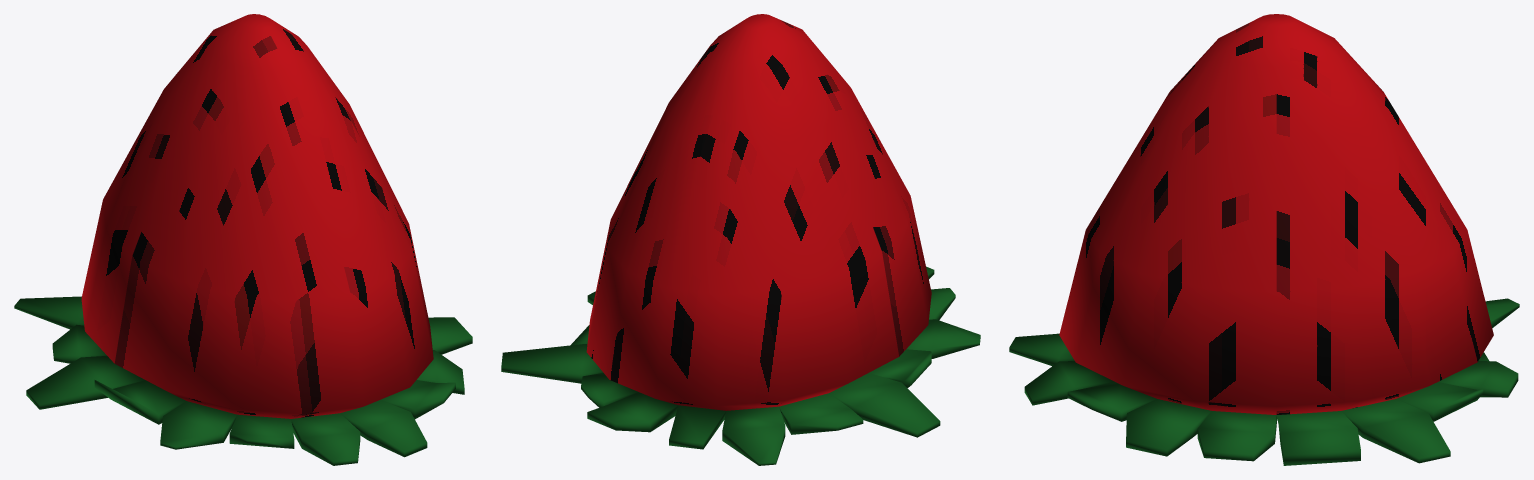
Rendered from strawb.glb.
The picture shows the model from 3 angles, left to right: view 1: azimuth 30°, elevation 25°; view 2: azimuth 150°, elevation 25°; view 3: azimuth 270°, elevation 25°; orthographic projection. The views are drawn at different scales.
Visible parts, largest first — view 1: Cylinder.002; view 2: Cylinder.002; view 3: Cylinder.002.
Part boxes in pixels (bbox=[...]): Cylinder.002: bbox=[14, 14, 472, 465]; Cylinder.002: bbox=[501, 14, 980, 465]; Cylinder.002: bbox=[1009, 14, 1519, 465].
Size of the model in its own units: 0.5868 by 0.5048 by 0.6441.
Materials: 2 (1 with a texture image).
